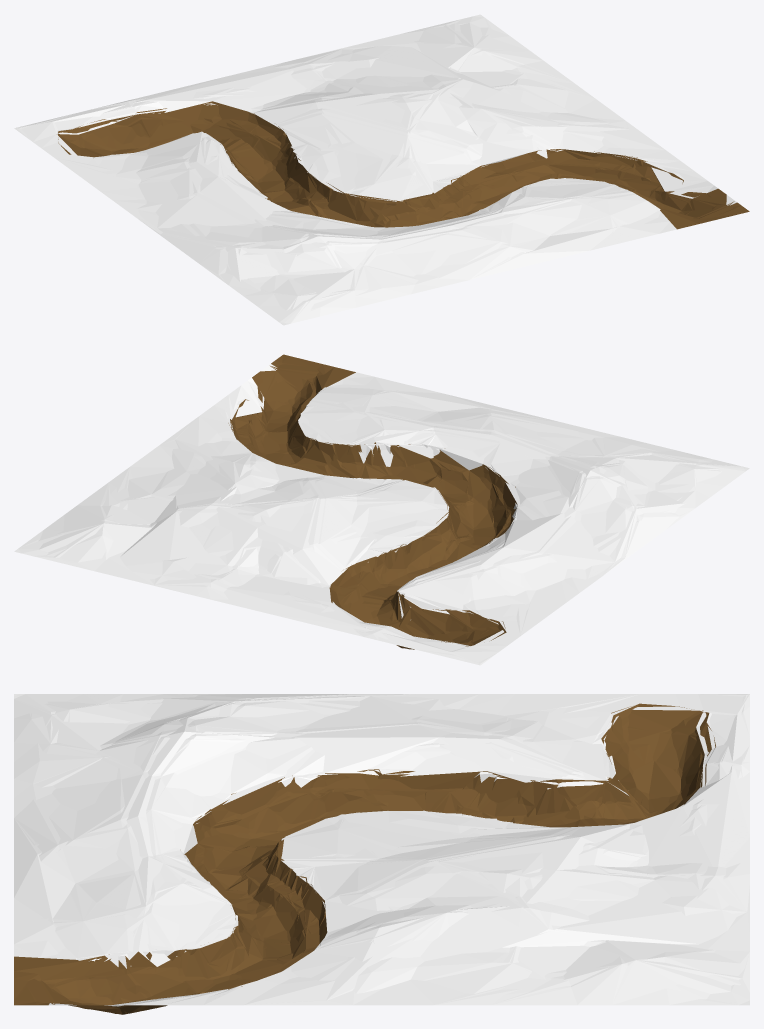
The model's file is Large_Terrain_2_Snowy.fbx.
3 views of the same model, one above another, from view 1: azimuth 30°, elevation 25°; view 2: azimuth 150°, elevation 25°; view 3: azimuth 270°, elevation 25° (orthographic). The views are drawn at different scales.
Visible parts, largest first — view 1: Large Terrain 2_LOD0_Snowy, Large Terrain 2_LOD2_Snowy, Large Terrain 2_LOD1_Snowy, Large Terrain 2_LOD3_Snowy; view 2: Large Terrain 2_LOD0_Snowy, Large Terrain 2_LOD2_Snowy, Large Terrain 2_LOD1_Snowy, Large Terrain 2_LOD3_Snowy; view 3: Large Terrain 2_LOD0_Snowy, Large Terrain 2_LOD2_Snowy, Large Terrain 2_LOD1_Snowy, Large Terrain 2_LOD3_Snowy.
Boxes of the visible parts, x1=… form: Large Terrain 2_LOD0_Snowy: x1=14, y1=14, x2=749, y2=325; Large Terrain 2_LOD2_Snowy: x1=15, y1=16, x2=734, y2=323; Large Terrain 2_LOD1_Snowy: x1=17, y1=18, x2=741, y2=310; Large Terrain 2_LOD3_Snowy: x1=55, y1=47, x2=707, y2=323; Large Terrain 2_LOD0_Snowy: x1=14, y1=354, x2=749, y2=665; Large Terrain 2_LOD2_Snowy: x1=18, y1=365, x2=745, y2=665; Large Terrain 2_LOD1_Snowy: x1=19, y1=356, x2=718, y2=663; Large Terrain 2_LOD3_Snowy: x1=104, y1=367, x2=742, y2=649; Large Terrain 2_LOD0_Snowy: x1=14, y1=694, x2=749, y2=1013; Large Terrain 2_LOD2_Snowy: x1=14, y1=694, x2=749, y2=1012; Large Terrain 2_LOD1_Snowy: x1=14, y1=694, x2=749, y2=1014; Large Terrain 2_LOD3_Snowy: x1=14, y1=694, x2=749, y2=1005.
Size of the model in its own units: 40000 by 3965 by 40000.
